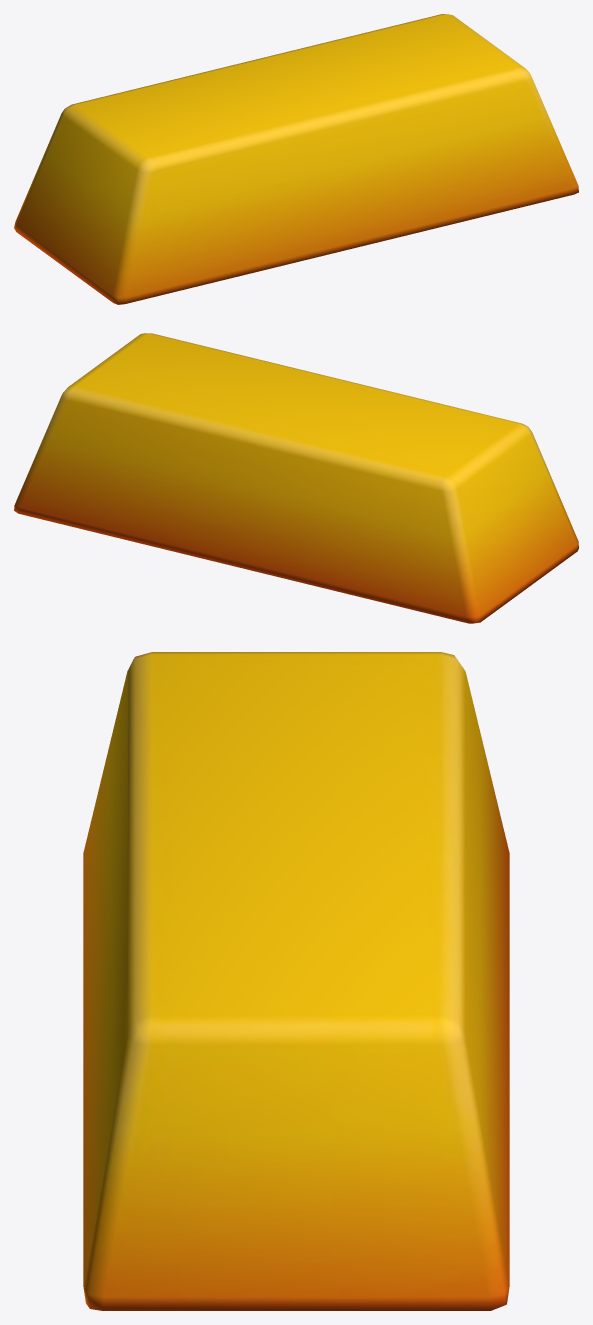
File: gold-bar.glb
3 renders of one model, top to bottom at view 1: azimuth 30°, elevation 25°; view 2: azimuth 150°, elevation 25°; view 3: azimuth 270°, elevation 25°, orthographic. The views are drawn at different scales.
Size of the model in its own units: 1 by 0.2611 by 0.3973.
Materials: 1 (1 with a texture image).
